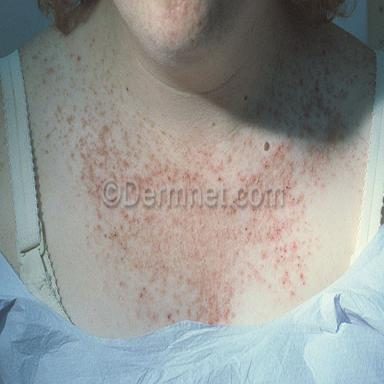Darier_s-Disease: (34, 38, 364, 328)
